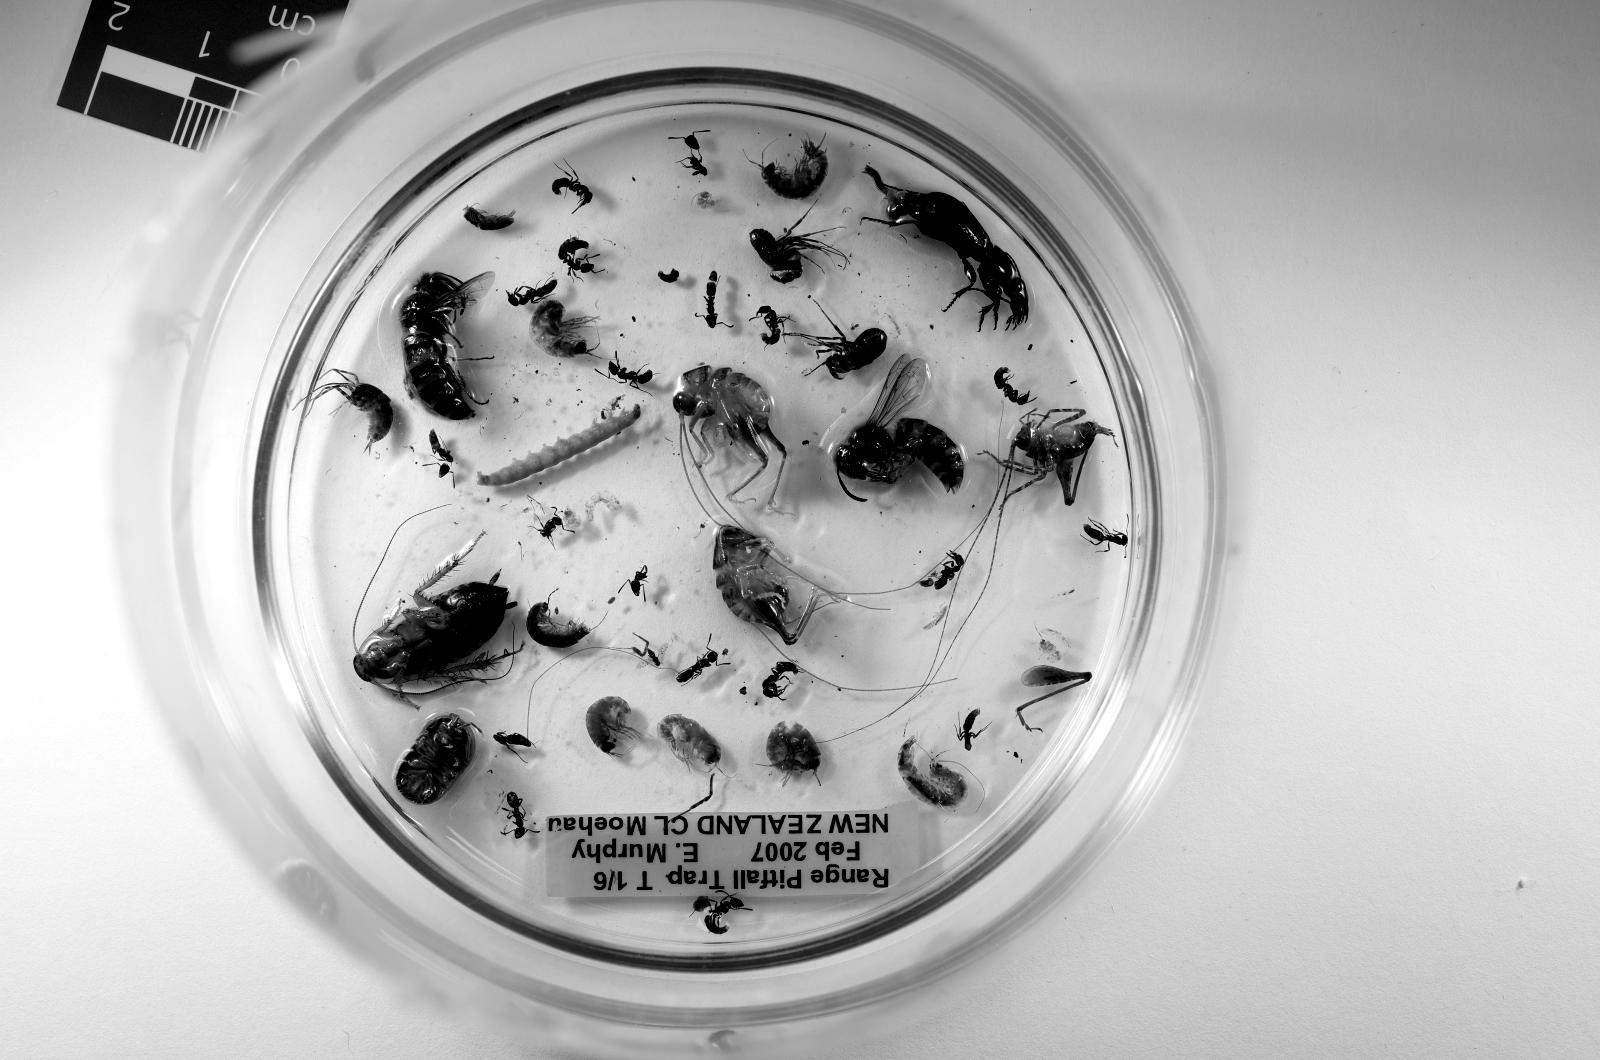amphipoda: (312, 369, 394, 451), (759, 140, 828, 199), (531, 298, 600, 357), (765, 724, 822, 786), (656, 715, 721, 767), (584, 696, 641, 755)
archaeognatha: (896, 736, 969, 810)
blattodea: (354, 531, 522, 707)
carabidae: (862, 168, 1028, 329)
coleoptera_larva: (478, 407, 641, 487)
diplopoda: (525, 602, 590, 649)
diptera: (634, 642, 669, 670)
formicidae: (500, 791, 538, 839), (675, 649, 721, 684), (553, 170, 594, 208), (559, 237, 597, 277), (506, 279, 556, 308), (763, 661, 799, 699), (993, 367, 1031, 403), (607, 360, 653, 388), (1084, 522, 1128, 550), (428, 428, 453, 478), (934, 552, 966, 590), (757, 304, 784, 344), (957, 707, 982, 751), (704, 270, 719, 329), (540, 509, 565, 541), (628, 565, 647, 596)
isopoda: (397, 715, 475, 804)
opiliones: (750, 224, 847, 283), (784, 323, 887, 379)
orthoptera: (672, 363, 788, 512), (976, 409, 1113, 523), (713, 525, 822, 642)
vespidae: (835, 357, 963, 503), (400, 273, 494, 419)
